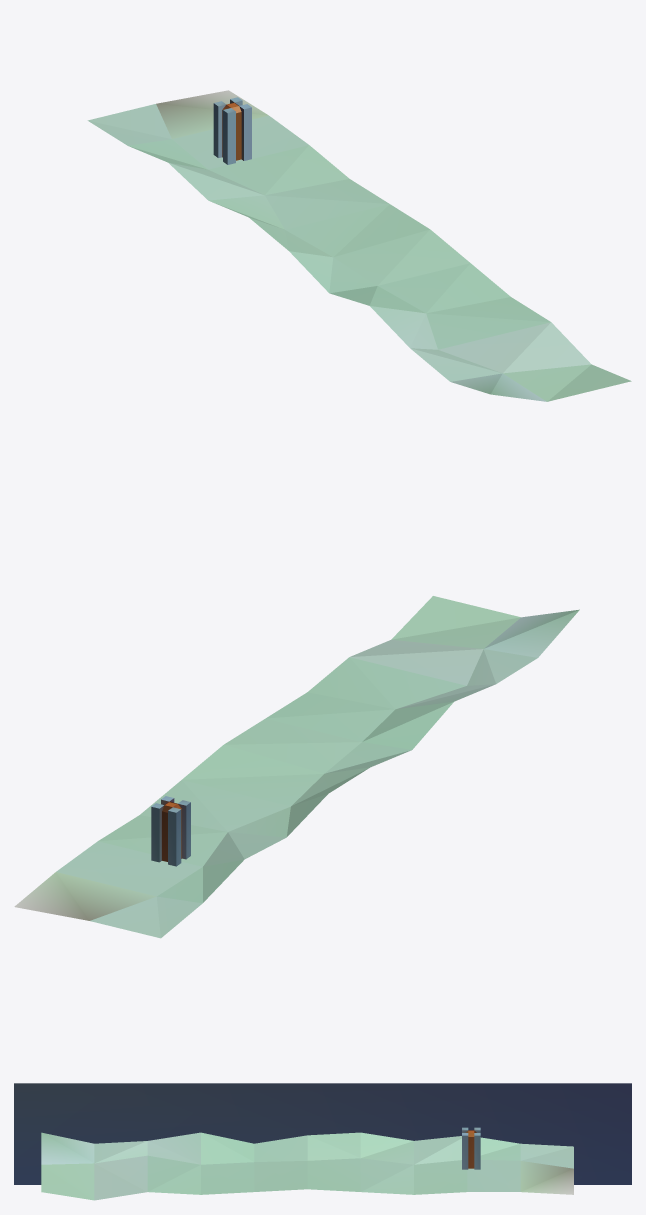
The model's file is road_back.glb.
The picture shows the model from 3 angles, top to bottom: view 1: azimuth 30°, elevation 25°; view 2: azimuth 150°, elevation 25°; view 3: azimuth 270°, elevation 25°; orthographic projection. The views are drawn at different scales.
Visible parts, largest first — view 1: Grid, Cube.001; view 2: Grid, Cube.001; view 3: Plane, Grid, Cube.001.
Part boxes in pixels (x1,y1,x2,y2): Grid: (87, 90, 631, 401); Cube.001: (213, 97, 251, 164); Grid: (14, 596, 579, 938); Cube.001: (151, 796, 190, 866); Plane: (14, 1083, 631, 1184); Grid: (41, 1132, 573, 1200); Cube.001: (462, 1127, 480, 1169).
Size of the model in its own units: 42.15 by 36.28 by 200.
